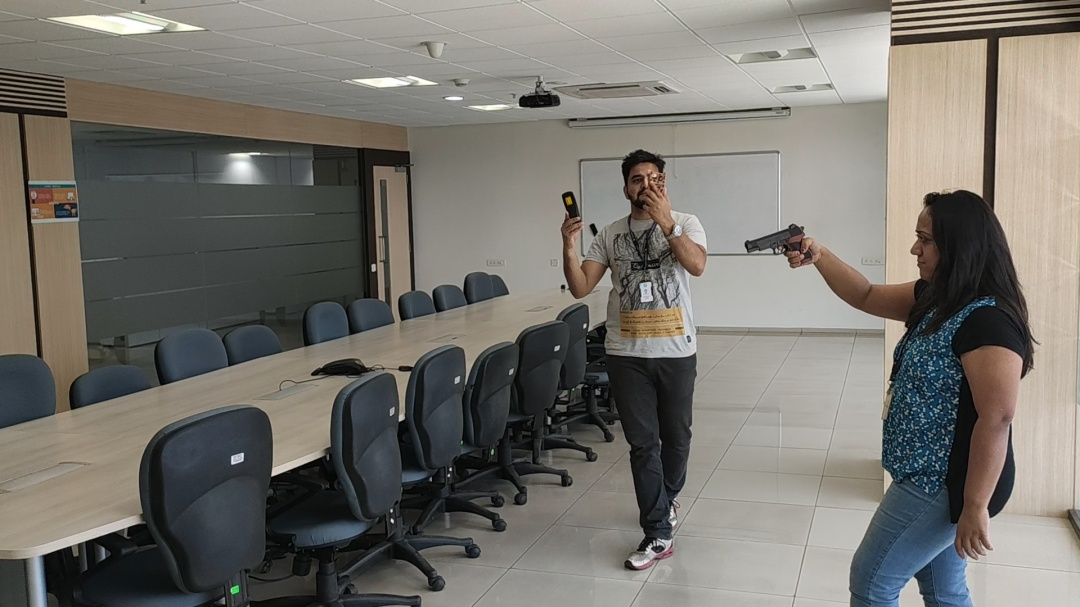gun: (744, 223, 815, 265)
